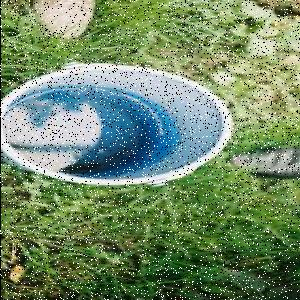Cup: (3, 64, 233, 188)
